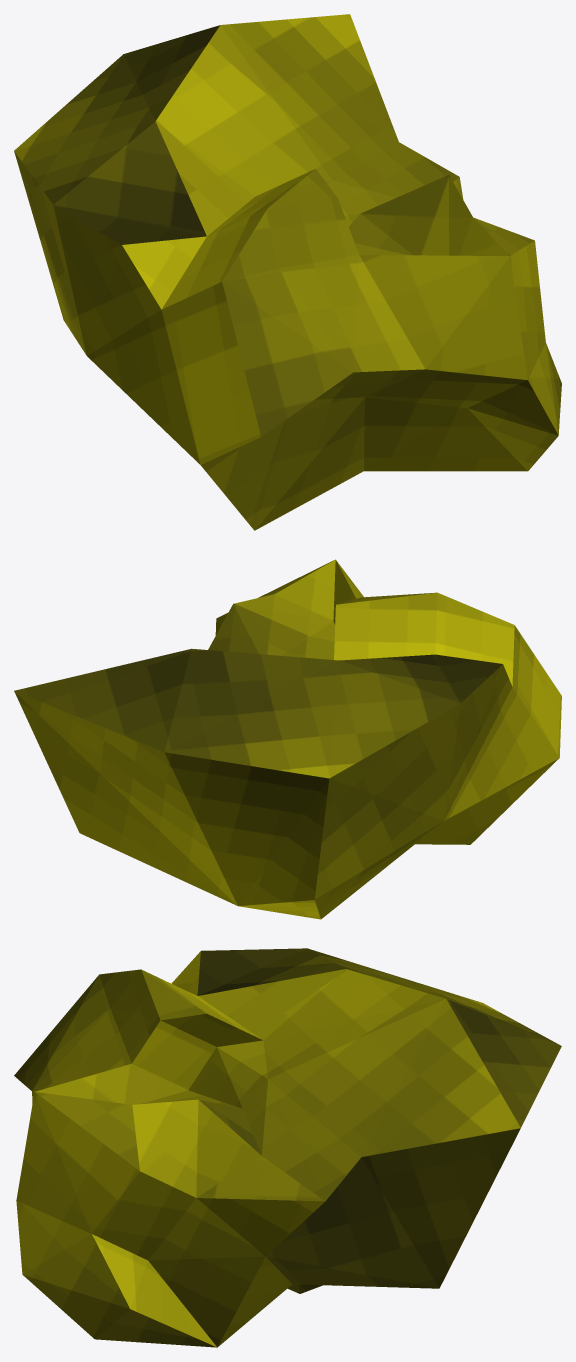
File: asteroid_small2.fbx
3 views of the same model, one above another, from view 1: azimuth 30°, elevation 25°; view 2: azimuth 150°, elevation 25°; view 3: azimuth 270°, elevation 25° (orthographic). The views are drawn at different scales.
Visible parts, largest first — view 1: Cube; view 2: Cube; view 3: Cube.
Boxes of the visible parts, bbox=[...] form: Cube: bbox=[14, 14, 561, 530]; Cube: bbox=[14, 559, 561, 919]; Cube: bbox=[14, 948, 561, 1347].
Size of the model in its own units: 2.7 by 2.28 by 3.46.
